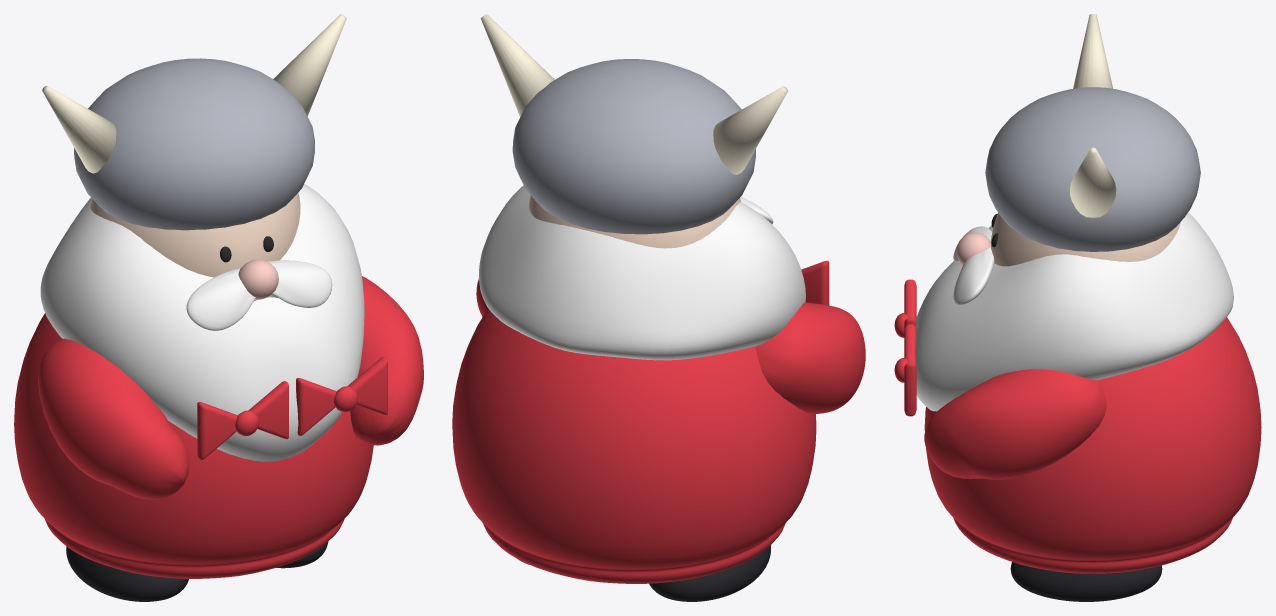
Rendered from viking.glb.
The picture shows the model from 3 angles, left to right: view 1: azimuth 30°, elevation 25°; view 2: azimuth 150°, elevation 25°; view 3: azimuth 270°, elevation 25°; orthographic projection. The views are drawn at different scales.
Parts seen in each view (by area): view 1: viking_red, viking_white, viking_grey, viking_skin, viking_cream, viking_black, viking_nose; view 2: viking_red, viking_white, viking_grey, viking_cream, viking_black, viking_skin; view 3: viking_red, viking_white, viking_grey, viking_cream, viking_black, viking_skin, viking_nose.
Part boxes in pixels (x1=…): viking_red: x1=14, y1=276, x2=423, y2=578; viking_white: x1=40, y1=184, x2=364, y2=461; viking_grey: x1=74, y1=58, x2=314, y2=230; viking_skin: x1=90, y1=192, x2=300, y2=277; viking_cream: x1=42, y1=14, x2=346, y2=173; viking_black: x1=66, y1=236, x2=328, y2=601; viking_nose: x1=238, y1=259, x2=278, y2=299; viking_red: x1=452, y1=260, x2=865, y2=583; viking_white: x1=479, y1=185, x2=805, y2=360; viking_grey: x1=512, y1=59, x2=755, y2=234; viking_cream: x1=480, y1=14, x2=787, y2=174; viking_black: x1=518, y1=545, x2=770, y2=601; viking_skin: x1=529, y1=195, x2=740, y2=248; viking_red: x1=894, y1=279, x2=1261, y2=573; viking_white: x1=915, y1=212, x2=1233, y2=411; viking_grey: x1=985, y1=87, x2=1200, y2=251; viking_cream: x1=1070, y1=14, x2=1116, y2=217; viking_black: x1=991, y1=214, x2=1162, y2=601; viking_skin: x1=990, y1=213, x2=1180, y2=266; viking_nose: x1=956, y1=232, x2=990, y2=265.
Size of the model in its own units: 2.14 by 2.97 by 2.07.
